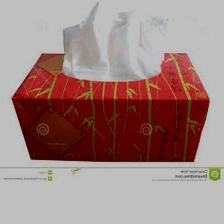book: (6, 46, 214, 167)
tissue: (56, 0, 175, 86)
